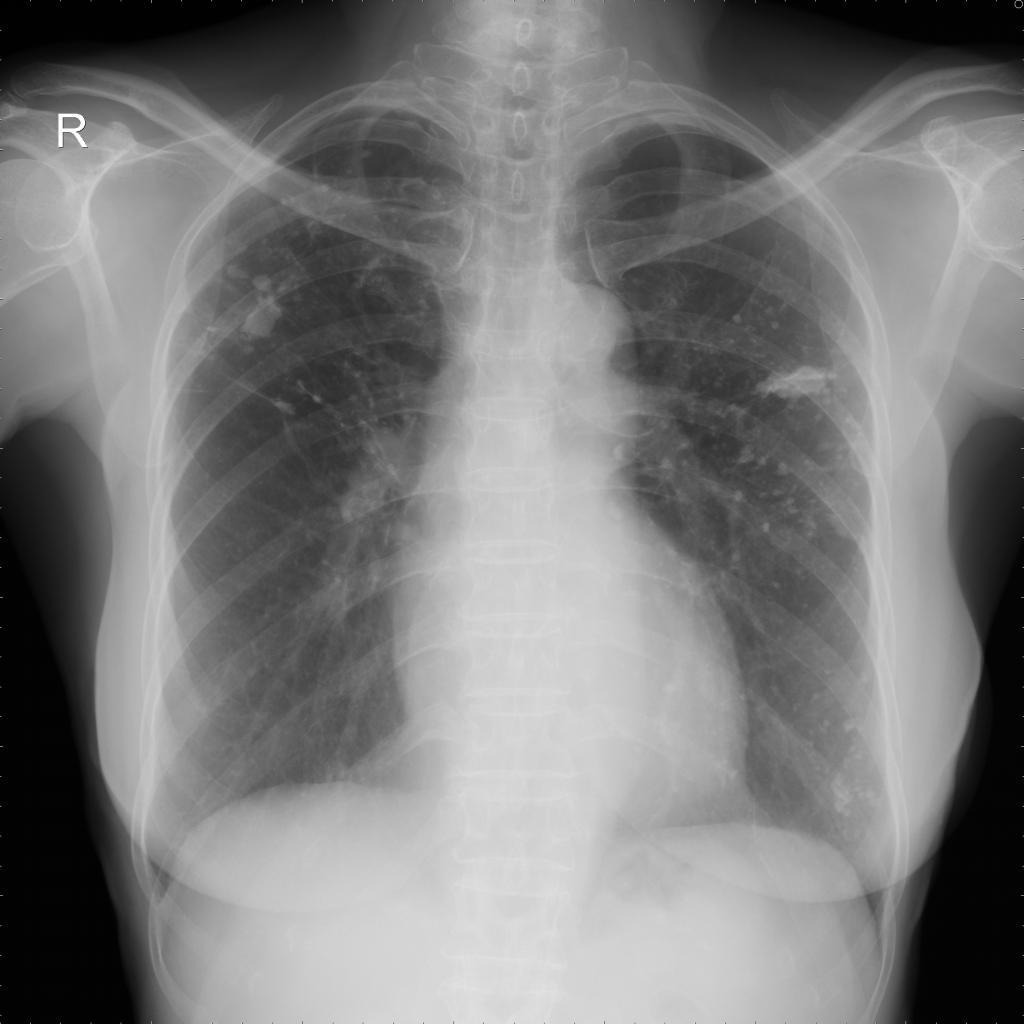Nodule: (734, 361, 862, 408)
